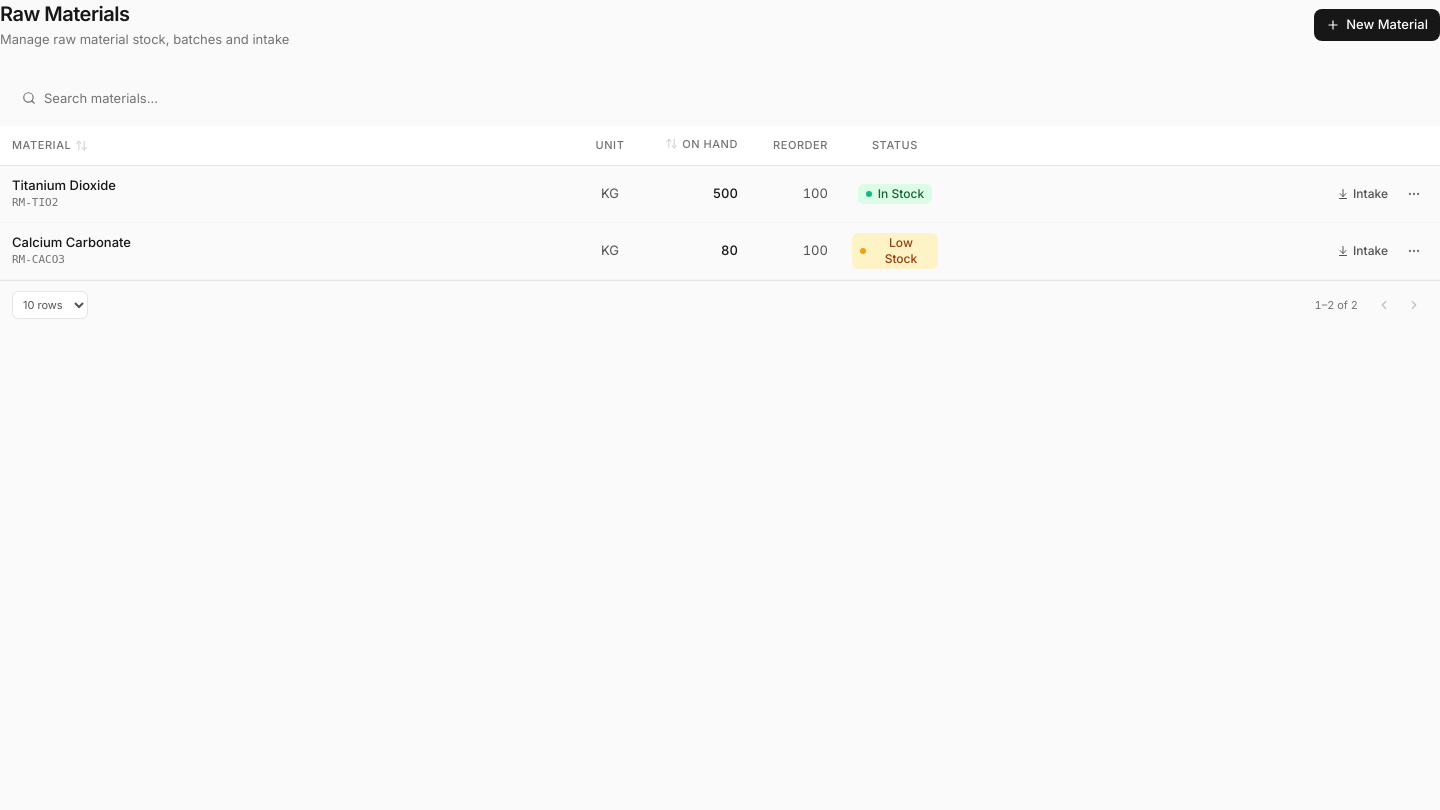
Test: RawMaterialsInventoryPage › intake validation blocks zero quantity submission
The image size is (1440, 810).
Step 1. Click the button "Intake" in the row of "Titanium Dioxide" → point(1363, 194), box [1329,180,1396,208]
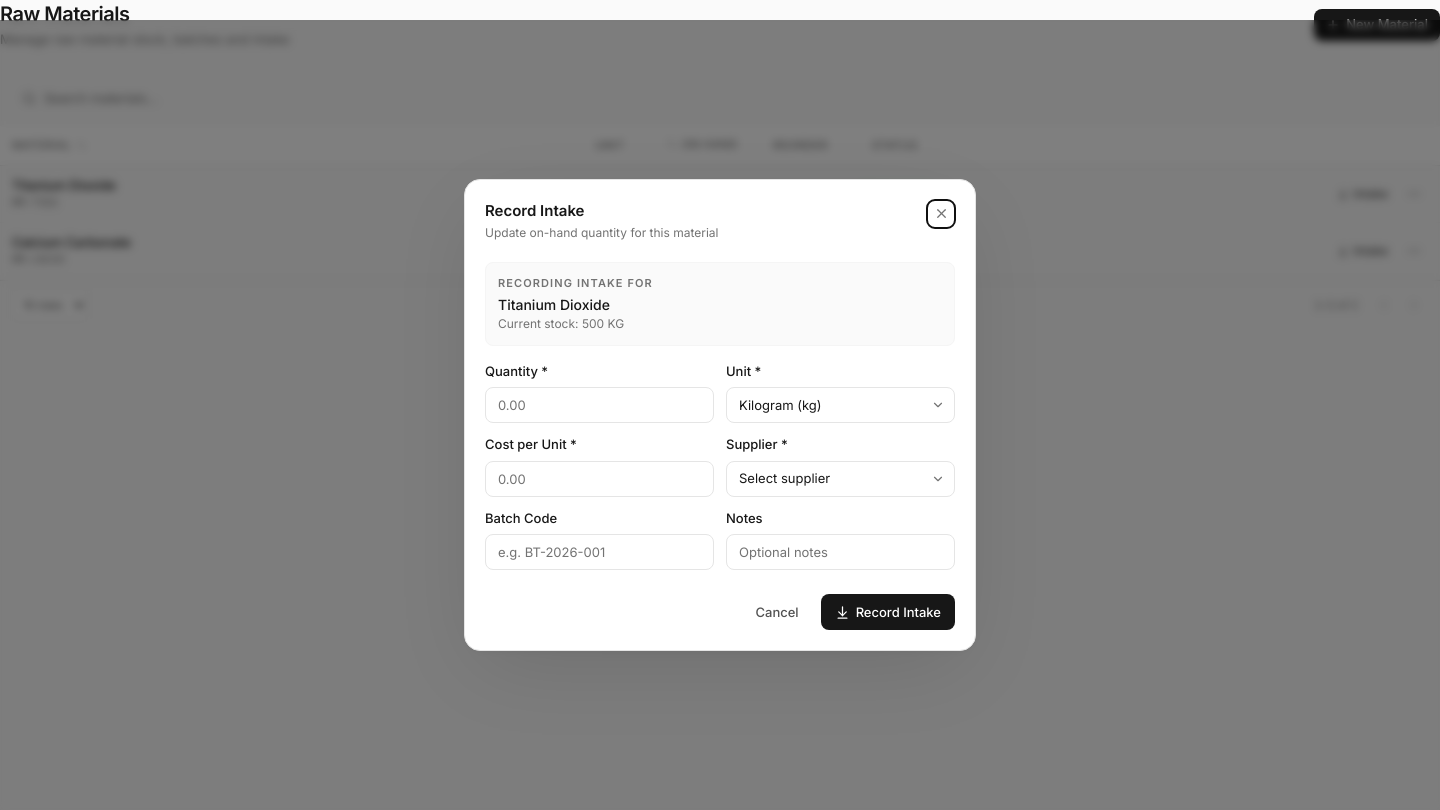
Result: the heading "Record Intake" is shown at [485,201,584,220]
Note: Leave quantity blank and try to submit via button role
Step 2. Click the button "Record Intake" → point(888, 612), box [821,594,955,630]
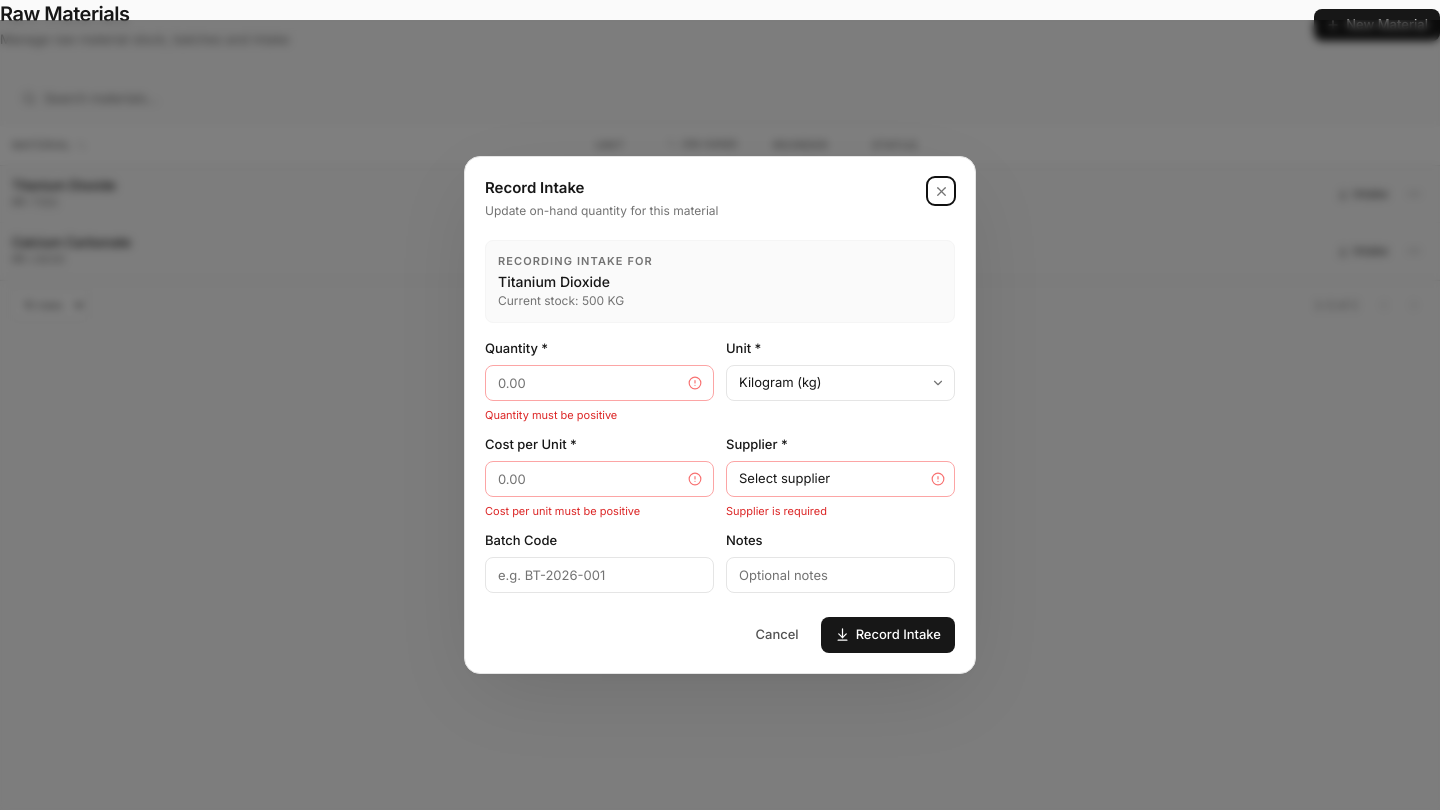
Result: the text "Quantity must be positive" is shown at [485,408,617,422]
